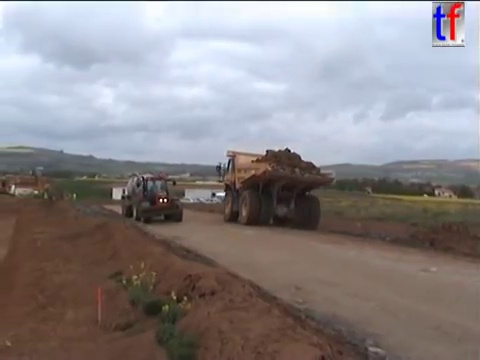truck: (213, 148, 336, 230), (119, 170, 186, 225)
